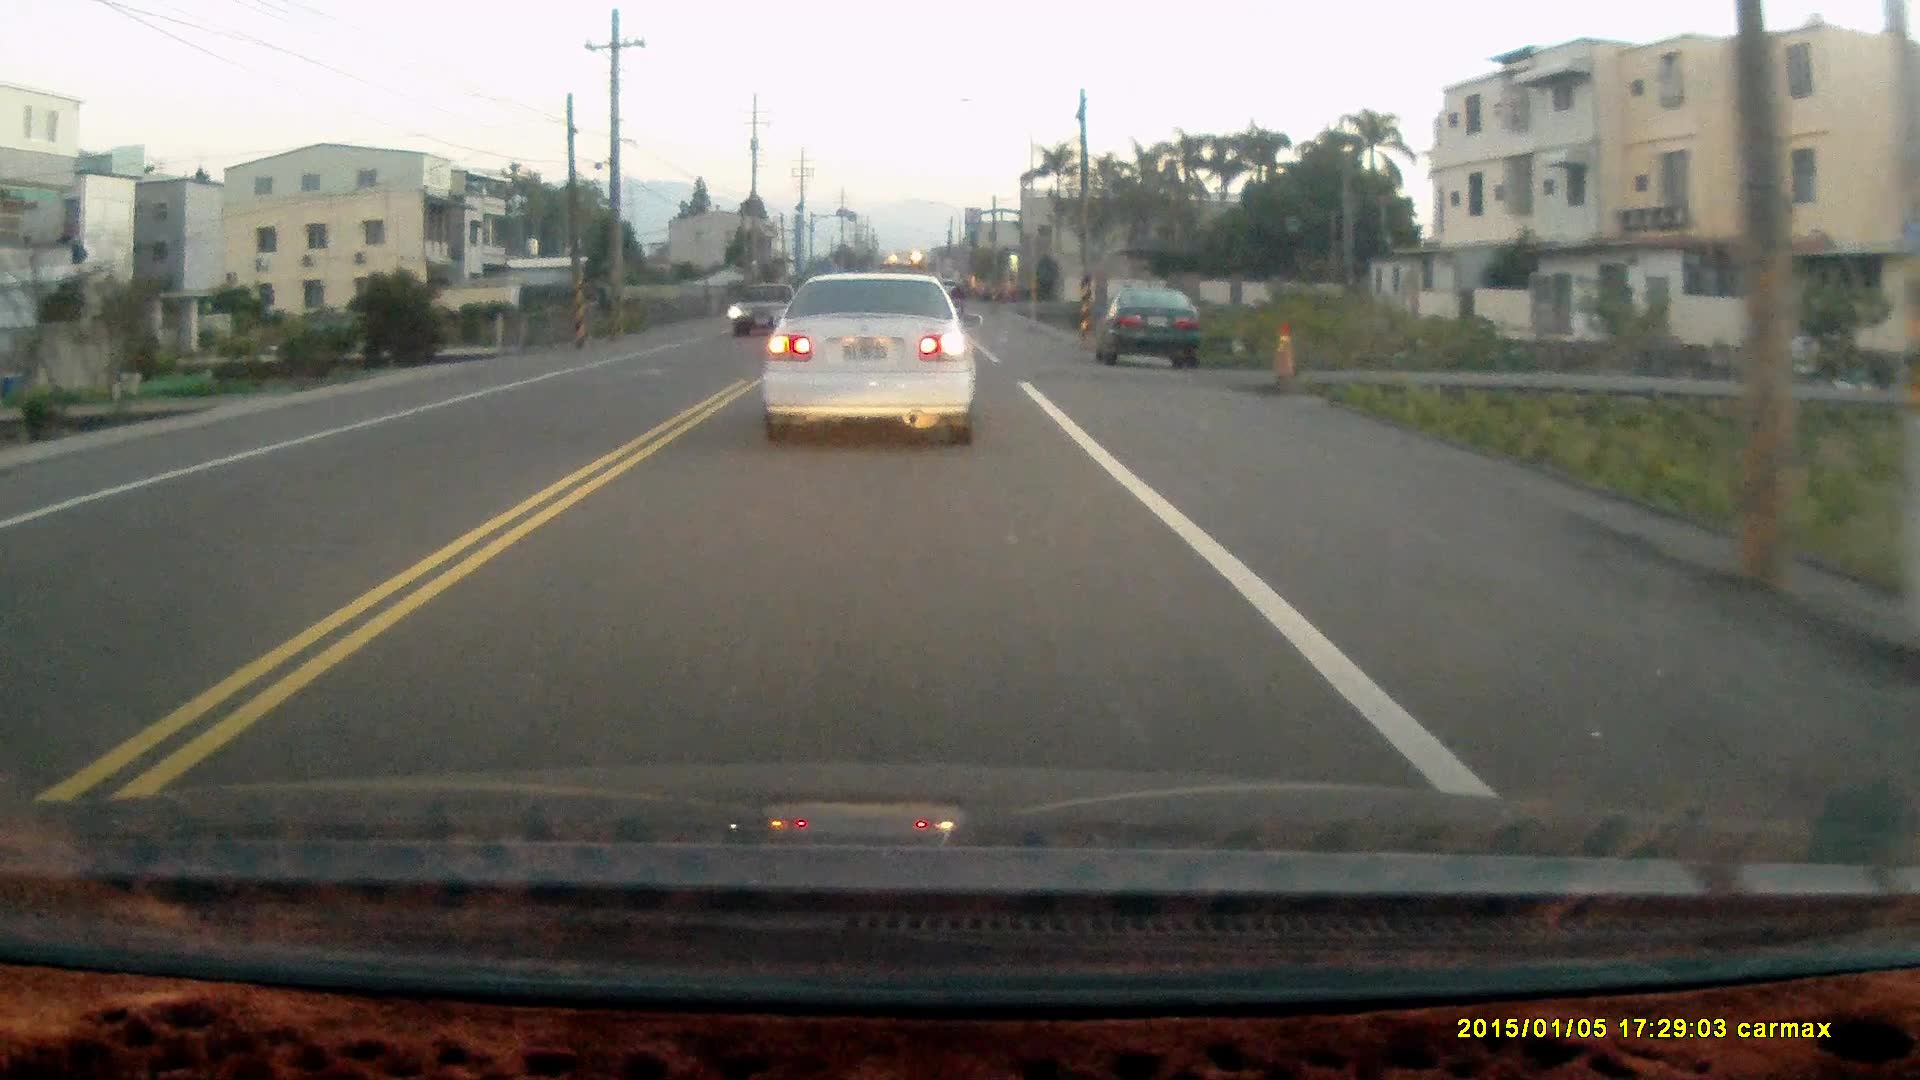vehicle: (760, 272, 976, 454), (1098, 290, 1205, 375), (731, 284, 796, 342)
